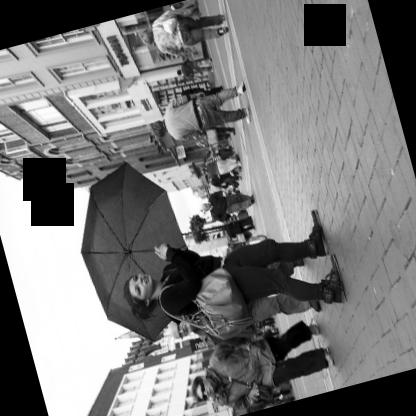handbag: (158, 266, 254, 338), (215, 368, 271, 408), (151, 13, 177, 33), (204, 149, 222, 165)
